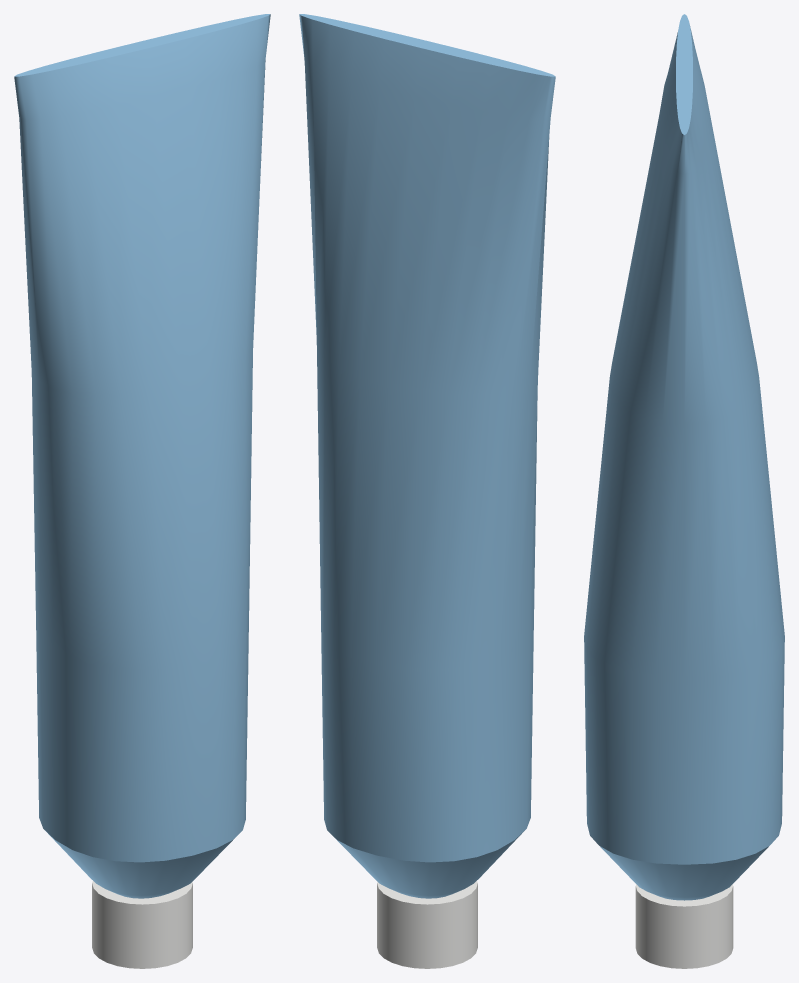
Rendered from creme_dental_tubo.dae.
The picture shows the model from 3 angles, left to right: view 1: azimuth 30°, elevation 25°; view 2: azimuth 150°, elevation 25°; view 3: azimuth 270°, elevation 25°; orthographic projection. The views are drawn at different scales.
Visible parts, largest first — view 1: Creme dental - tubo (×2); view 2: Creme dental - tubo (×2); view 3: Creme dental - tubo (×2).
Part boxes in pixels (box(x1,y1,x2,y2)): Creme dental - tubo (×2): box(14, 14, 270, 968); Creme dental - tubo (×2): box(299, 14, 555, 968); Creme dental - tubo (×2): box(584, 14, 784, 968).
Bounding box in the file's own units: 50 × 35 × 168.
